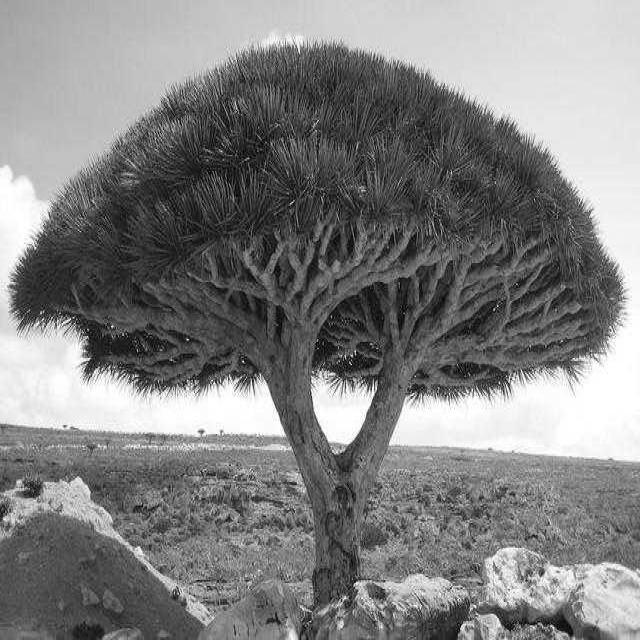Tree: (11, 44, 624, 604)
